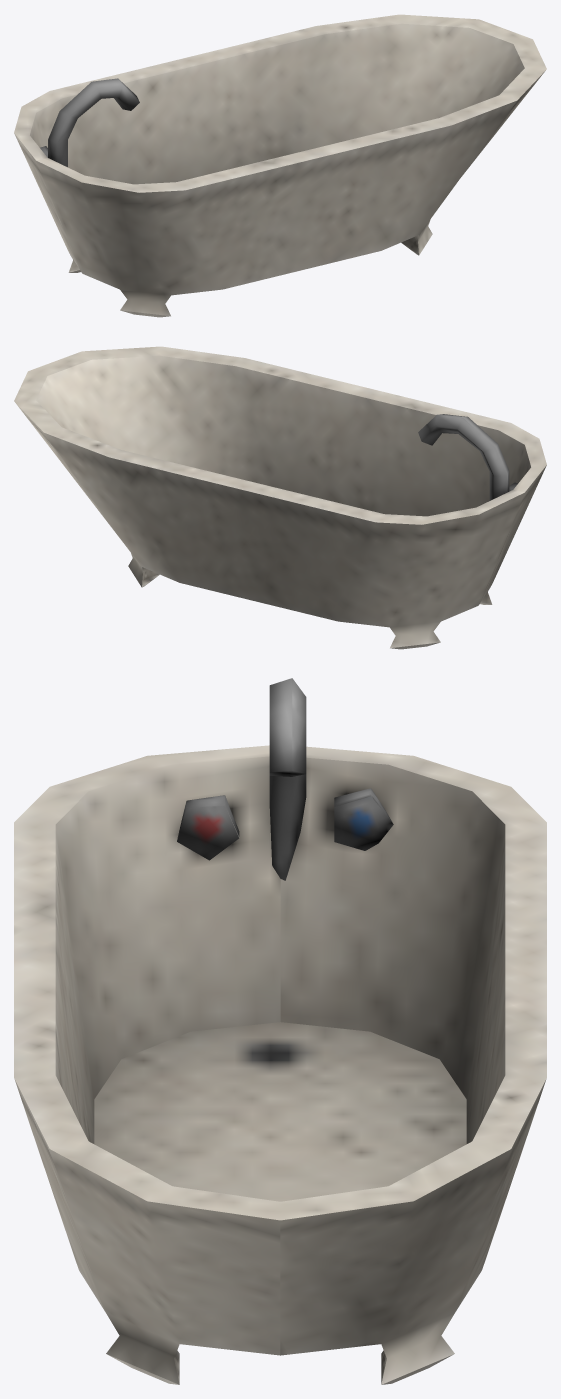
The model's file is SM_SYD_Bathtub01.fbx.
The picture shows the model from 3 angles, top to bottom: view 1: azimuth 30°, elevation 25°; view 2: azimuth 150°, elevation 25°; view 3: azimuth 270°, elevation 25°; orthographic projection. The views are drawn at different scales.
Parts seen in each view (by area): view 1: SM_SYD_Bathtub01; view 2: SM_SYD_Bathtub01; view 3: SM_SYD_Bathtub01.
Boxes of the visible parts, x1,y1,x2,y2 form: SM_SYD_Bathtub01: (14,14,546,317); SM_SYD_Bathtub01: (14,346,546,649); SM_SYD_Bathtub01: (14,678,546,1384).
Size of the model in its own units: 188 by 76.75 by 88.85.
